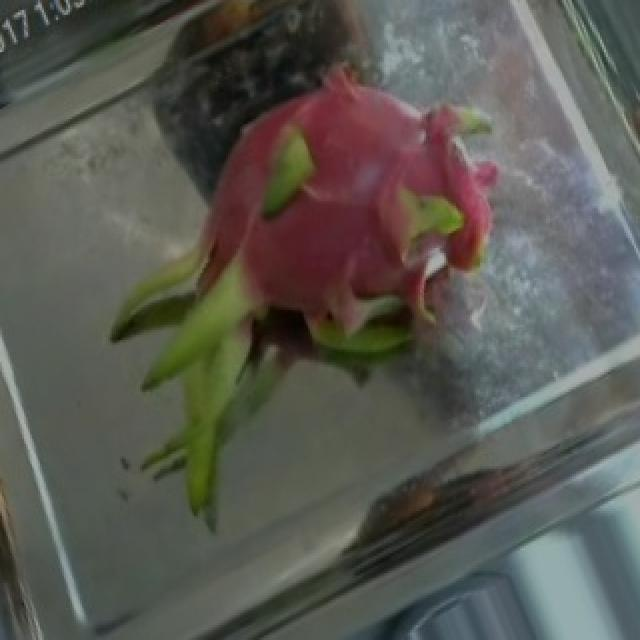fruit: (98, 7, 556, 469)
